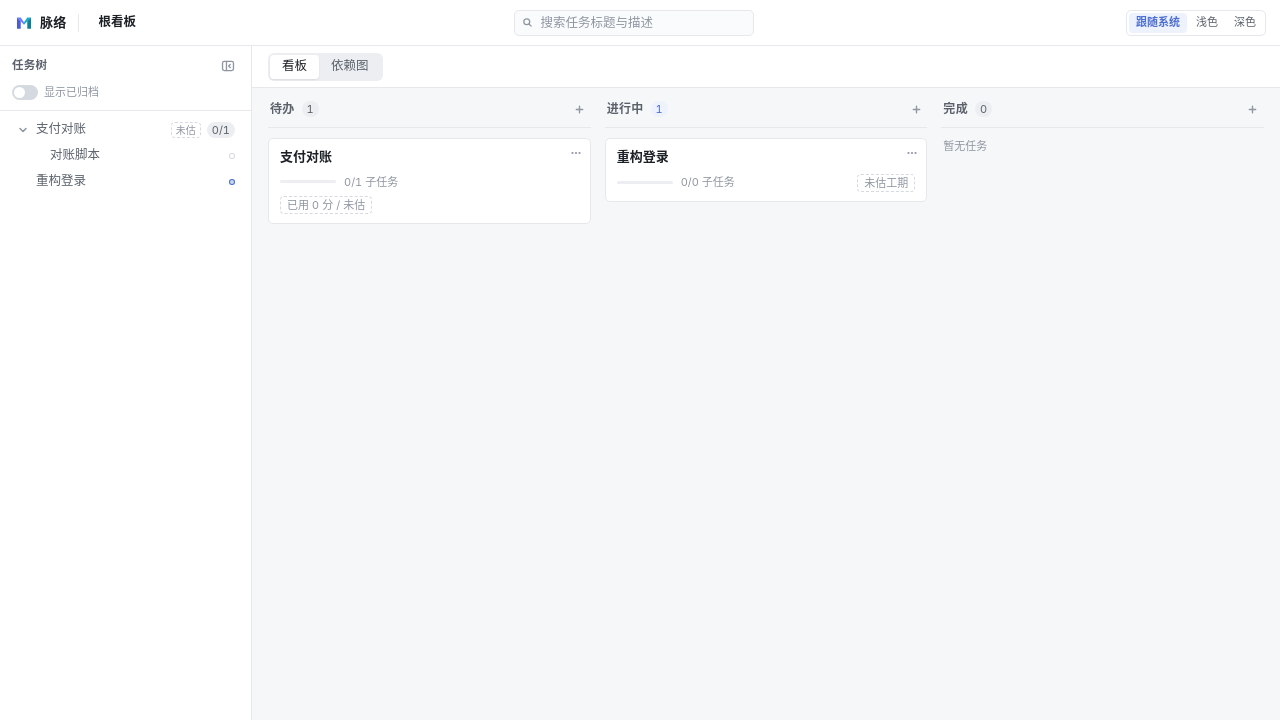
Test: App 增删改 › 新建失败时留在输入行里显示后端文案，表单不收起
Check: the text "支付对账" is shown, box [280,148,332,164]
Step 1. Click the button named "在「待办」新建任务" → (580, 109), box [571,100,589,118]
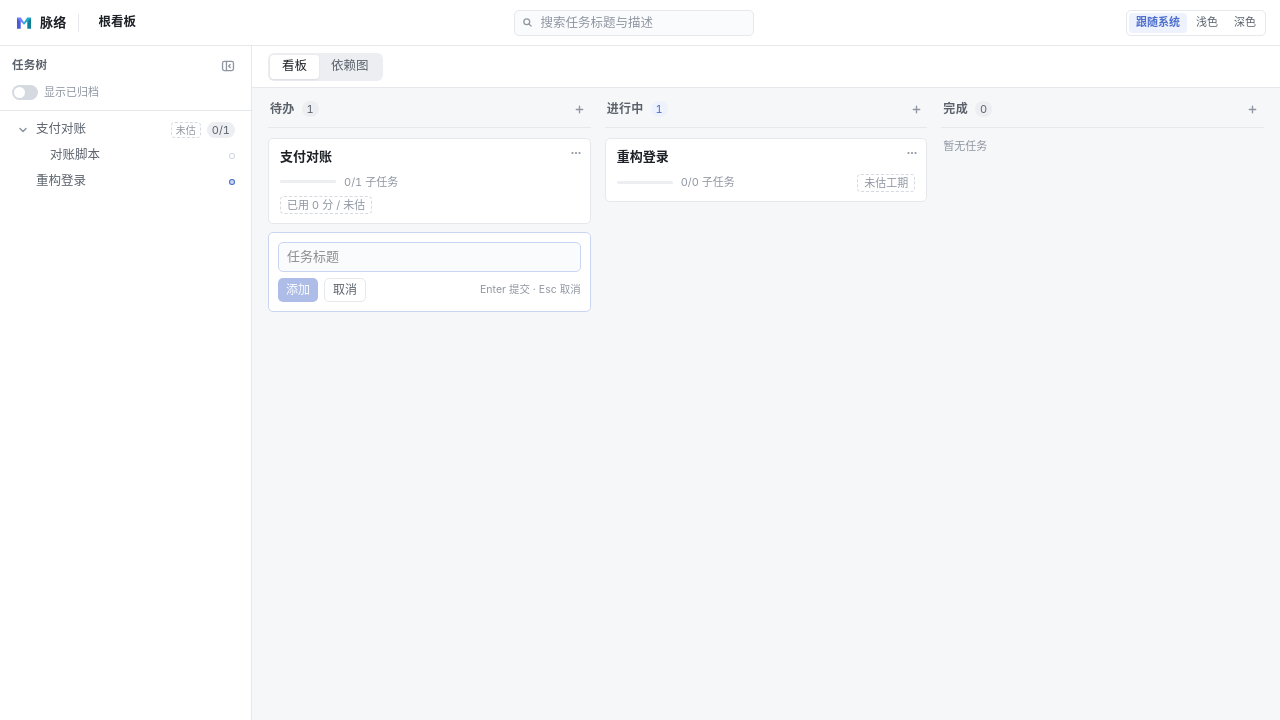
Step 2. Type "补迁移测试" into the field named "在「待办」新建任务" → (429, 257), box [278,242,581,272]
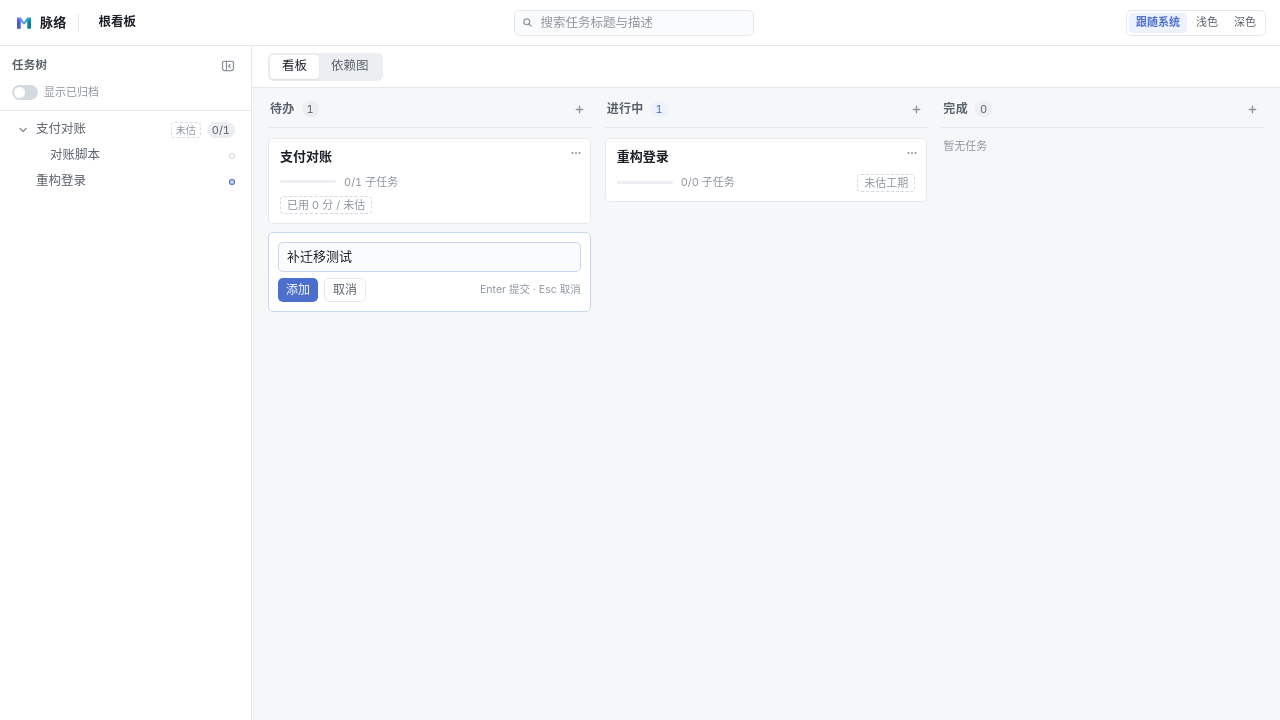
Step 3. Submit the form named "在「待办」新建任务", box [268,232,591,312]
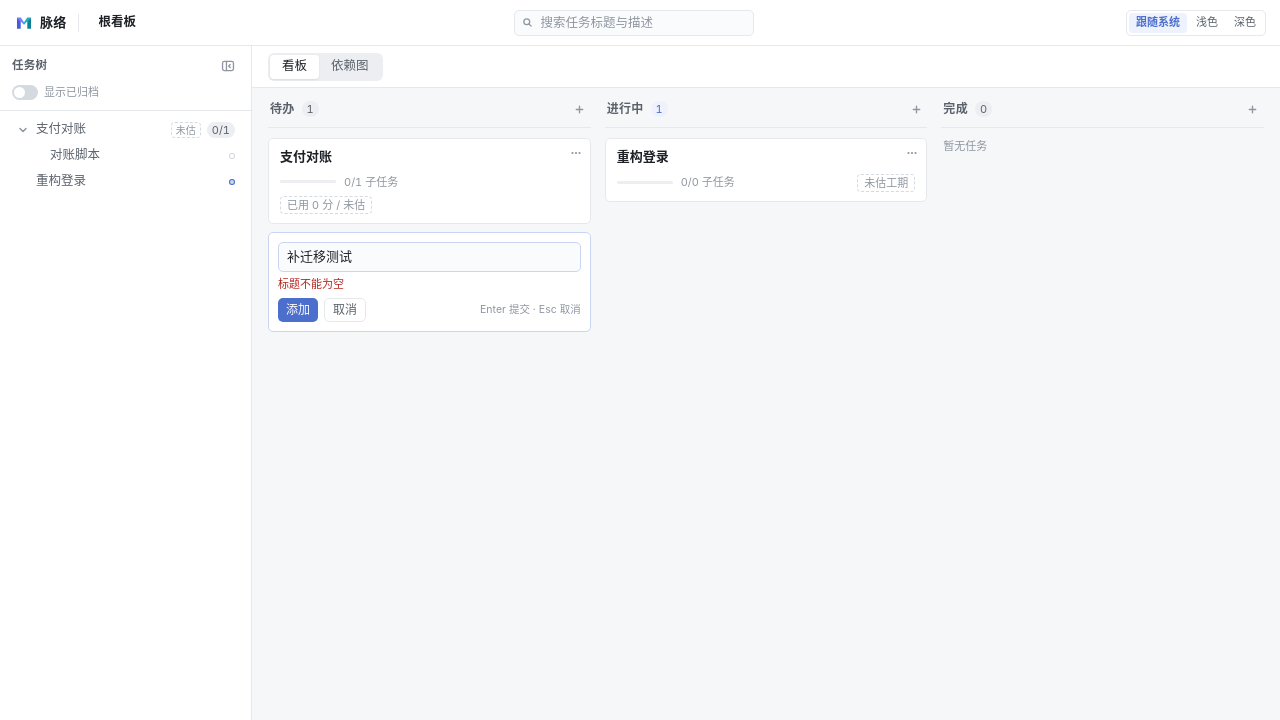
Check: the text "标题不能为空" is shown, box [278,276,344,290]
